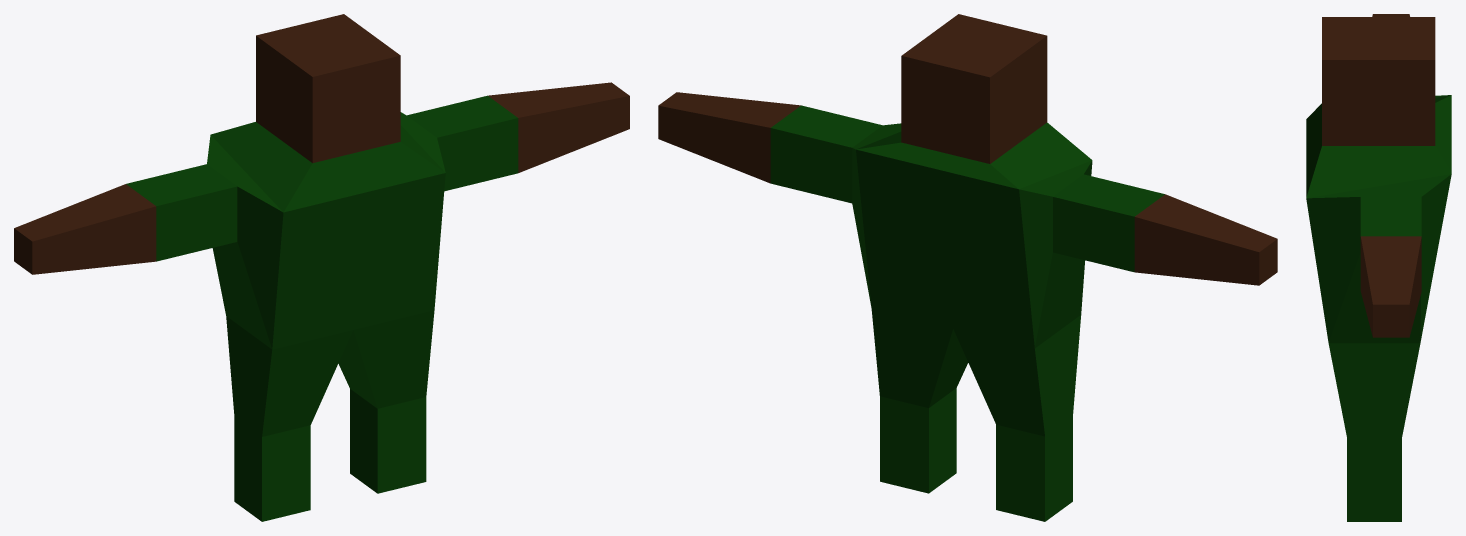
The model's file is abvgd.fbx.
3 views of the same model, side by side, from view 1: azimuth 30°, elevation 25°; view 2: azimuth 150°, elevation 25°; view 3: azimuth 270°, elevation 25° (orthographic).
Visible parts, largest first — view 1: Cube; view 2: Cube; view 3: Cube.
Boxes of the visible parts, box(x1,y1,x2,y2) form: Cube: box(14, 14, 629, 521); Cube: box(658, 14, 1277, 521); Cube: box(1306, 14, 1451, 521).
Bounding box in the file's own units: 736 × 524 × 156.
